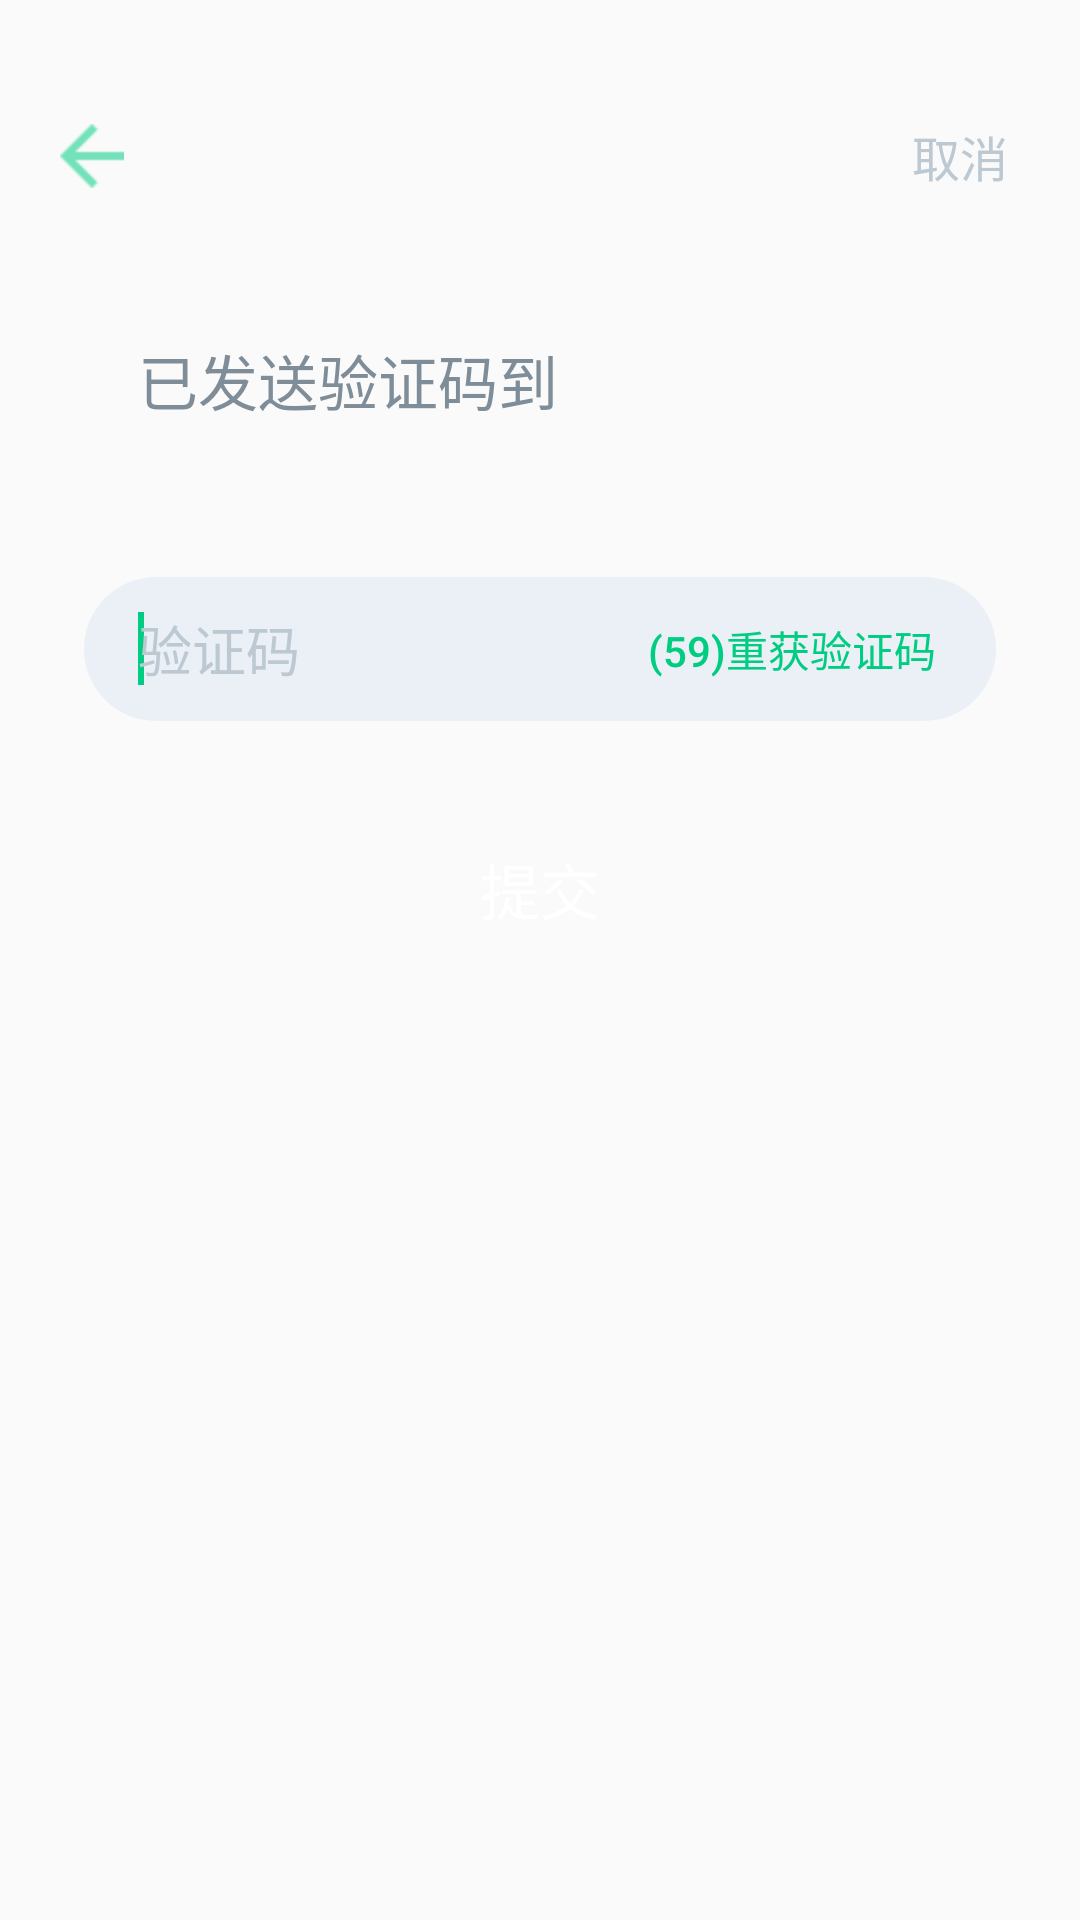

Where to tap for icons on this 1080 × 1920 app screen, as point (x, y):
back: point (92, 156)
